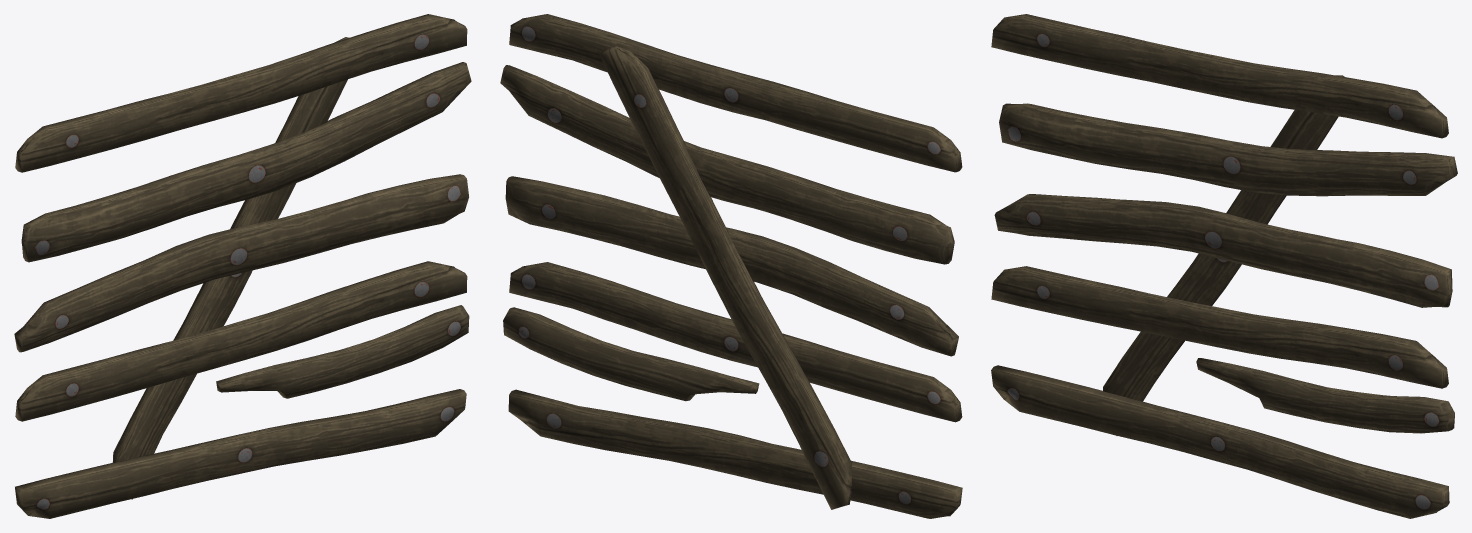
Rendered from wood_panel_C.fbx.
3 views of the same model, side by side, from view 1: azimuth 30°, elevation 25°; view 2: azimuth 150°, elevation 25°; view 3: azimuth 330°, elevation 25° (orthographic).
Parts seen in each view (by area): view 1: wood_panel_C; view 2: wood_panel_C; view 3: wood_panel_C.
Part boxes in pixels (x1,y1,x2,y2): wood_panel_C: [14, 14, 471, 518]; wood_panel_C: [500, 14, 962, 518]; wood_panel_C: [991, 14, 1457, 518].
Size of the model in its own units: 405 by 358 by 23.5.
1 material, 1 textured.
